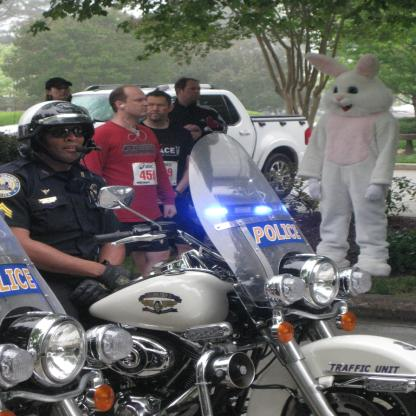Helmet: (17, 100, 102, 165)
